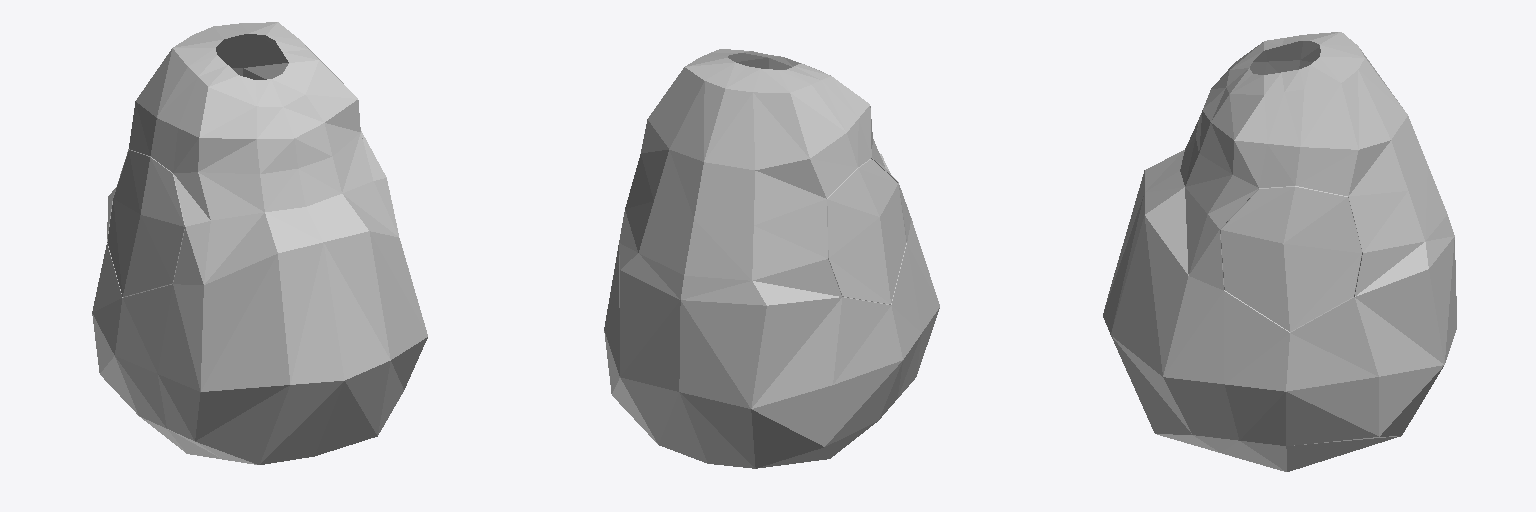
File: baymax_belly.obj
3 renders of one model, left to right at view 1: azimuth 30°, elevation 25°; view 2: azimuth 150°, elevation 25°; view 3: azimuth 270°, elevation 25°, orthographic.
Visible parts, largest first — view 1: Chest_Belly; view 2: Chest_Belly; view 3: Chest_Belly.
Part boxes in pixels (x1,y1,x2,y2): Chest_Belly: (92,22,427,464); Chest_Belly: (604,49,939,468); Chest_Belly: (1103,32,1456,471).
Size of the model in its own units: 42.25 by 59.84 by 46.93.